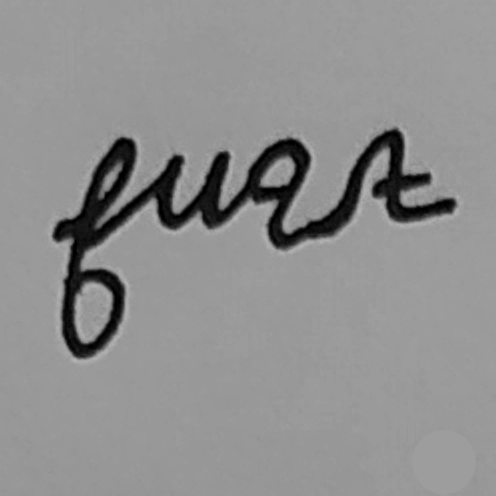f: (45, 129, 146, 365)
u: (149, 145, 234, 234)
z: (349, 123, 460, 229), (240, 135, 319, 254)
